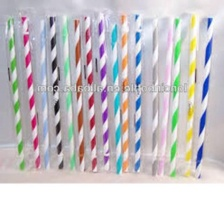drinking_straw: (190, 12, 217, 182), (2, 13, 29, 175), (163, 13, 185, 180), (57, 12, 77, 173), (91, 10, 110, 174), (129, 10, 145, 174)
